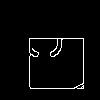C: (25, 23, 71, 60)
